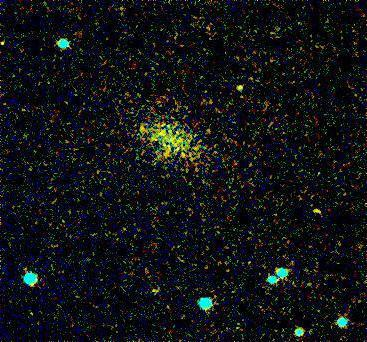star: (230, 73, 260, 103)
